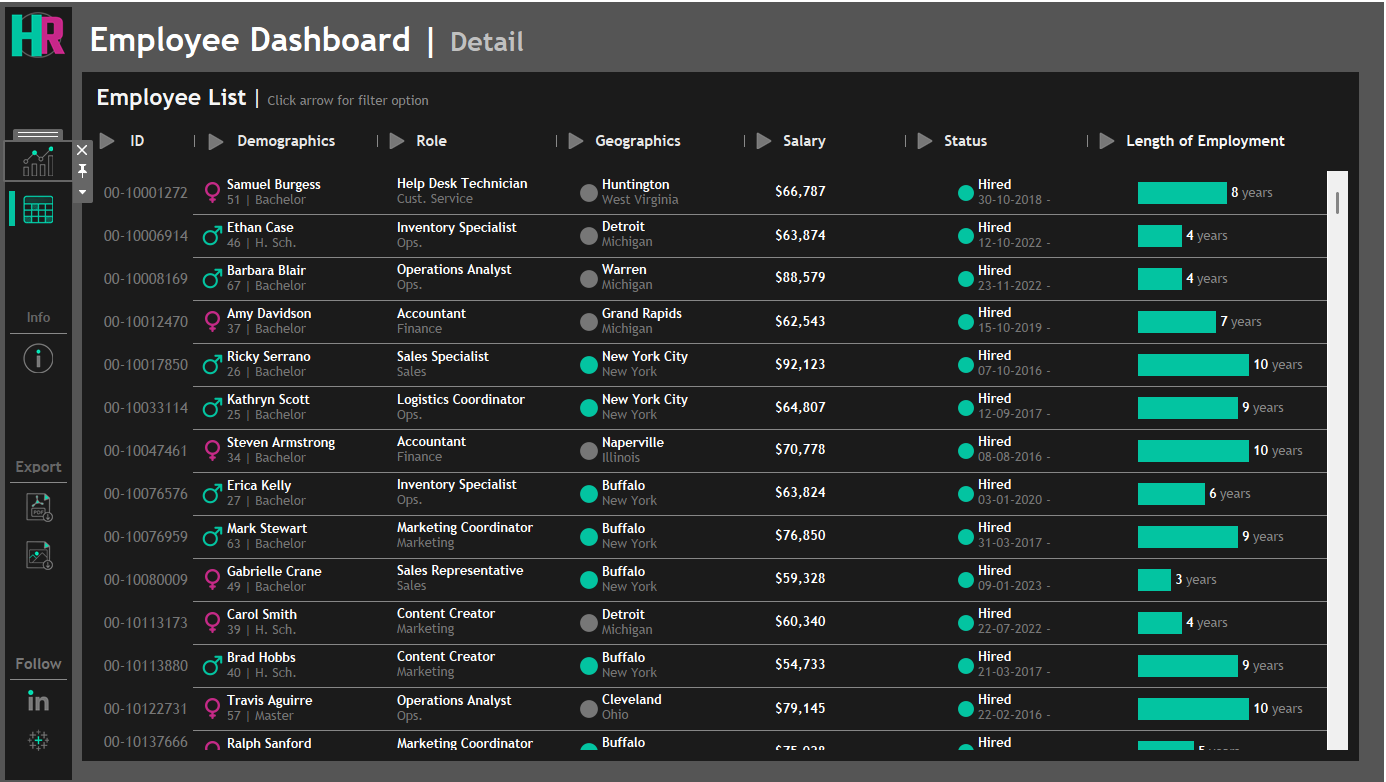

The page's visual inventory and layout, read from the dashboard file:
{"tool":"tableau","page":{"name":"Employee | Detail","canvas":[1000,1000],"units":"permille","ordinal":0},"visuals":[{"type":"text","box":[77.9,15,915,325]},{"type":"image","param":"Image/Logo.png","box":[9.3,16.2,47.9,68.8]},{"type":"text","box":[64.3,16.2,912.1,81.2]},{"type":"blank","box":[9.3,85,47.9,100]},{"type":"text","box":[69.3,106.2,902.1,51.2]},{"type":"filter","title":"Employee Detail","param":"[federated.05zfjog0hdbj4g1d7ljgt0dblwy4].[none:Calculation_1510957687166418954:n","box":[140.7,137.5,121.4,72.5]},{"type":"filter","title":"Employee Detail","param":"[federated.05zfjog0hdbj4g1d7ljgt0dblwy4].[none:Calculation_481040747071586311:nk","box":[399.3,137.5,125,72.5]},{"type":"filter","title":"Employee Detail","param":"[federated.05zfjog0hdbj4g1d7ljgt0dblwy4].[sum:Calculation_1510957687172304907:qk","box":[778.5,137.5,197.9,65]},{"type":"filter","title":"Employee Detail","param":"[federated.05zfjog0hdbj4g1d7ljgt0dblwy4].[none:Job Title:nk]","box":[271.4,145,118.6,72.5]},{"type":"filter","title":"Employee Detail","param":"[federated.05zfjog0hdbj4g1d7ljgt0dblwy4].[sum:Salary:qk]","box":[533.5,147.5,105.7,87.5]},{"type":"filter","title":"Employee Detail","param":"[federated.05zfjog0hdbj4g1d7ljgt0dblwy4].[none:Calculation_2171579457432629248:n","box":[648.5,150,120.7,72.5]},{"type":"dashboard-object","box":[72.9,163.8,17.9,40]},{"type":"text","box":[90.7,163.8,49.3,40]},{"type":"blank","box":[140,163.8,9.3,40]},{"type":"dashboard-object","box":[149.3,163.8,20.7,40]},{"type":"text","box":[170,163.8,100.7,40]},{"type":"blank","box":[270.7,163.8,9.3,40]},{"type":"dashboard-object","box":[280,163.8,17.9,40]},{"type":"text","box":[297.8,163.8,100.7,40]},{"type":"blank","box":[398.6,163.8,9.3,40]},{"type":"dashboard-object","box":[407.8,163.8,17.9,40]},{"type":"text","box":[425.7,163.8,107.2,40]},{"type":"blank","box":[532.8,163.8,9.3,40]},{"type":"dashboard-object","box":[542.1,163.8,17.9,40]},{"type":"text","box":[560,163.8,87.9,40]},{"type":"blank","box":[647.8,163.8,9.3,40]},{"type":"dashboard-object","box":[657.1,163.8,17.9,40]},{"type":"text","box":[675,163.8,102.9,40]},{"type":"blank","box":[777.8,163.8,9.3,40]},{"type":"dashboard-object","box":[787.1,163.8,17.9,40]},{"type":"text","box":[804.9,163.8,162.9,40]},{"type":"dashboard-object","box":[9.3,185,47.9,47.5]},{"type":"filter","title":"Employee Detail","param":"[federated.05zfjog0hdbj4g1d7ljgt0dblwy4].[none:Employee_ID:nk]","box":[69.3,190,67.1,68.8]},{"type":"blank","box":[778.5,202.5,197.9,40]},{"type":"filter","title":"Employee Detail","param":"[federated.05zfjog0hdbj4g1d7ljgt0dblwy4].[none:Gender:nk]","box":[140.7,210,121.4,72.5]},{"type":"filter","title":"Employee Detail","param":"[federated.05zfjog0hdbj4g1d7ljgt0dblwy4].[none:State:nk]","box":[399.3,210,125,72.5]},{"type":"worksheet","title":"Employee Detail","mark":"Shape","rows":["Employee_ID"],"cols":["Calculation_1510957687163895817","Calculation_1510957687163895817","Calculation_1510957687163895817","Calculation_1510957687163895817","Calculation_1510957687163895817","Calculation_1510957687172304907"],"box":[69.3,216.2,902.1,733.8]},{"type":"filter","title":"Employee Detail","param":"[federated.05zfjog0hdbj4g1d7ljgt0dblwy4].[none:Department:nk]","box":[271.4,217.5,118.6,72.5]},{"type":"filter","title":"Employee Detail","param":"[federated.05zfjog0hdbj4g1d7ljgt0dblwy4].[yr:Hiredate:ok]","box":[648.5,222.5,120.7,72.5]},{"type":"blank","box":[9.3,232.5,47.9,12.5]},{"type":"dashboard-object","box":[9.3,245,47.9,47.5]},{"type":"blank","box":[12.1,246.2,4.3,43.8]},{"type":"filter","title":"Employee Detail","param":"[federated.05zfjog0hdbj4g1d7ljgt0dblwy4].[none:Education Level:nk]","box":[140.7,282.5,121.4,72.5]},{"type":"filter","title":"Employee Detail","param":"[federated.05zfjog0hdbj4g1d7ljgt0dblwy4].[none:City:nk]","box":[399.3,282.5,125,72.5]},{"type":"blank","box":[9.3,292.5,47.9,100]},{"type":"filter","title":"Employee Detail","param":"[federated.05zfjog0hdbj4g1d7ljgt0dblwy4].[yr:Termdate:ok]","box":[648.5,295,120.7,72.5]},{"type":"filter","title":"Employee Detail","param":"[federated.05zfjog0hdbj4g1d7ljgt0dblwy4].[none:Calculation_481040747082395659:nk","box":[140.7,355,121.4,72.5]},{"type":"text","box":[9.3,392.5,47.9,25]},{"type":"blank","box":[9.3,417.5,47.9,13.8]},{"type":"dashboard-object","box":[9.3,431.2,47.9,47.5]},{"type":"blank","box":[9.3,478.8,47.9,100]},{"type":"text","box":[9.3,578.8,47.9,25]},{"type":"blank","box":[9.3,603.8,47.9,13.8]},{"type":"dashboard-object","box":[9.3,617.5,47.9,47.5]},{"type":"blank","box":[9.3,665,47.9,12.5]},{"type":"dashboard-object","box":[9.3,677.5,47.9,47.5]},{"type":"blank","box":[9.3,725,47.9,100]},{"type":"text","box":[9.3,825,47.9,25]},{"type":"blank","box":[9.3,850,47.9,13.8]},{"type":"image","param":"Image/contact-linkedin.png","box":[9.3,863.8,47.9,37.5]},{"type":"blank","box":[9.3,901.2,47.9,12.5]},{"type":"image","param":"Image/contact-public.png","box":[9.3,913.8,47.9,37.5]}]}

Visuals, with their boxes on the dashboard's canvas, which has no fixed pixel size, in thousandths of its width and height (x1, y1, x2, y2). These are canvas units, not pixel positions in the 1386x782 screenshot, which may show the page scaled, cropped or inside an application window:
text: rect(78, 15, 993, 340)
image: rect(9, 16, 57, 85)
text: rect(64, 16, 976, 97)
blank: rect(9, 85, 57, 185)
text: rect(69, 106, 971, 157)
"Employee Detail" filter: rect(141, 138, 262, 210)
"Employee Detail" filter: rect(399, 138, 524, 210)
"Employee Detail" filter: rect(778, 138, 976, 202)
"Employee Detail" filter: rect(271, 145, 390, 218)
"Employee Detail" filter: rect(534, 148, 639, 235)
"Employee Detail" filter: rect(648, 150, 769, 222)
dashboard-object: rect(73, 164, 91, 204)
text: rect(91, 164, 140, 204)
blank: rect(140, 164, 149, 204)
dashboard-object: rect(149, 164, 170, 204)
text: rect(170, 164, 271, 204)
blank: rect(271, 164, 280, 204)
dashboard-object: rect(280, 164, 298, 204)
text: rect(298, 164, 398, 204)
blank: rect(399, 164, 408, 204)
dashboard-object: rect(408, 164, 426, 204)
text: rect(426, 164, 533, 204)
blank: rect(533, 164, 542, 204)
dashboard-object: rect(542, 164, 560, 204)
text: rect(560, 164, 648, 204)
blank: rect(648, 164, 657, 204)
dashboard-object: rect(657, 164, 675, 204)
text: rect(675, 164, 778, 204)
blank: rect(778, 164, 787, 204)
dashboard-object: rect(787, 164, 805, 204)
text: rect(805, 164, 968, 204)
dashboard-object: rect(9, 185, 57, 232)
"Employee Detail" filter: rect(69, 190, 136, 259)
blank: rect(778, 202, 976, 242)
"Employee Detail" filter: rect(141, 210, 262, 282)
"Employee Detail" filter: rect(399, 210, 524, 282)
"Employee Detail" worksheet (Shape marks): rect(69, 216, 971, 950)
"Employee Detail" filter: rect(271, 218, 390, 290)
"Employee Detail" filter: rect(648, 222, 769, 295)
blank: rect(9, 232, 57, 245)
dashboard-object: rect(9, 245, 57, 292)
blank: rect(12, 246, 16, 290)
"Employee Detail" filter: rect(141, 282, 262, 355)
"Employee Detail" filter: rect(399, 282, 524, 355)
blank: rect(9, 292, 57, 392)
"Employee Detail" filter: rect(648, 295, 769, 368)
"Employee Detail" filter: rect(141, 355, 262, 428)
text: rect(9, 392, 57, 418)
blank: rect(9, 418, 57, 431)
dashboard-object: rect(9, 431, 57, 479)
blank: rect(9, 479, 57, 579)
text: rect(9, 579, 57, 604)
blank: rect(9, 604, 57, 618)
dashboard-object: rect(9, 618, 57, 665)
blank: rect(9, 665, 57, 678)
dashboard-object: rect(9, 678, 57, 725)
blank: rect(9, 725, 57, 825)
text: rect(9, 825, 57, 850)
blank: rect(9, 850, 57, 864)
image: rect(9, 864, 57, 901)
blank: rect(9, 901, 57, 914)
image: rect(9, 914, 57, 951)
